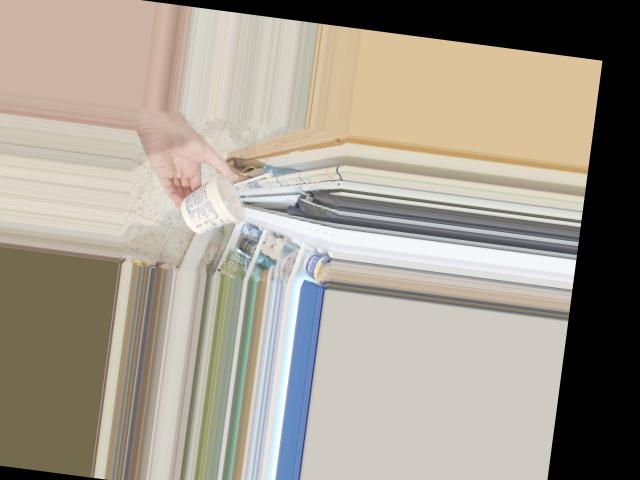cotage: (179, 163, 242, 230)
